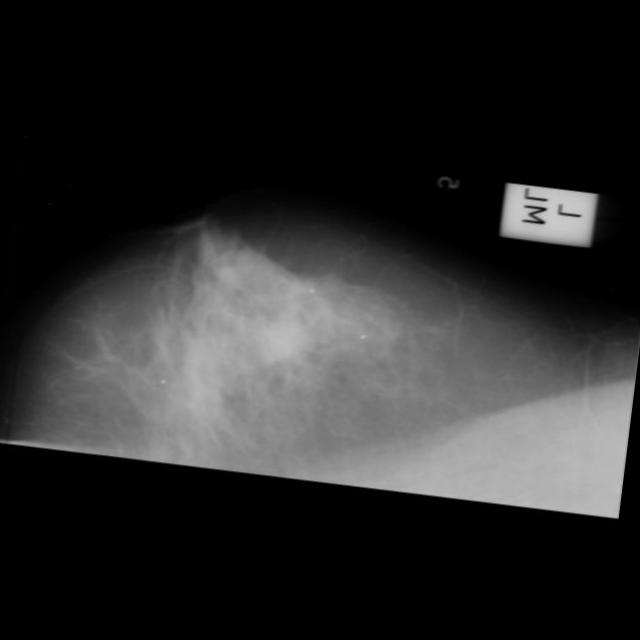MISC: (264, 314, 310, 360)
